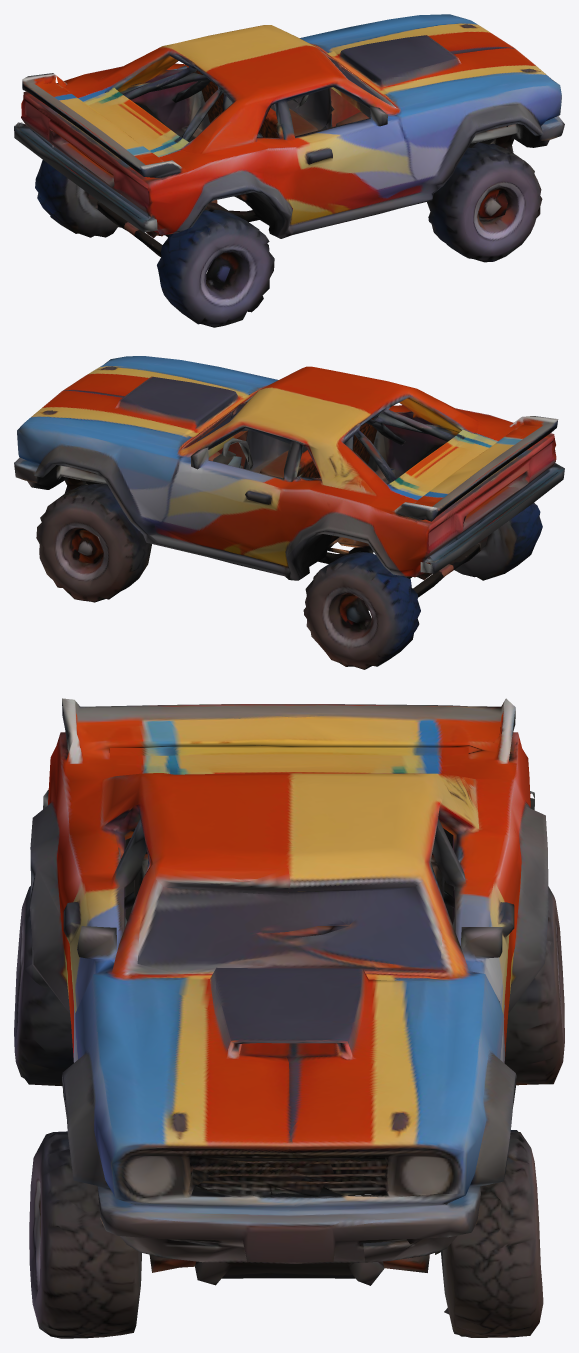
File: car.glb
3 views of the same model, one above another, from view 1: azimuth 30°, elevation 25°; view 2: azimuth 150°, elevation 25°; view 3: azimuth 270°, elevation 25° (orthographic). The views are drawn at different scales.
Visible parts, largest first — view 1: tripo_node_6e2f3745-cf34-4b47-b704-54fe4a16eb52; view 2: tripo_node_6e2f3745-cf34-4b47-b704-54fe4a16eb52; view 3: tripo_node_6e2f3745-cf34-4b47-b704-54fe4a16eb52.
Part boxes in pixels (box(x1,y1,x2,y2)): tripo_node_6e2f3745-cf34-4b47-b704-54fe4a16eb52: box(14, 14, 564, 327); tripo_node_6e2f3745-cf34-4b47-b704-54fe4a16eb52: box(14, 356, 564, 669); tripo_node_6e2f3745-cf34-4b47-b704-54fe4a16eb52: box(14, 698, 564, 1338).
Bounding box in the file's own units: 1 × 0.422 × 0.5817.
1 material, 1 textured.
